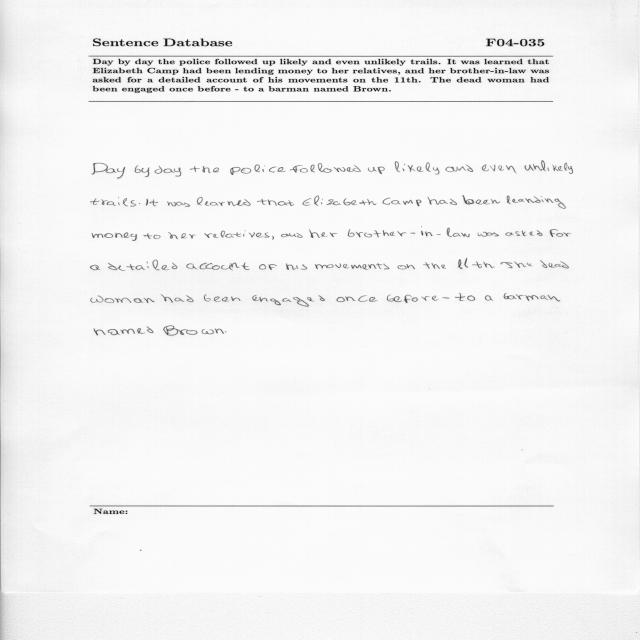word: (347, 227, 470, 237), (252, 295, 325, 307), (109, 259, 178, 271), (506, 196, 566, 209), (303, 196, 377, 206), (290, 163, 361, 173), (525, 161, 573, 174), (395, 161, 439, 175), (163, 326, 224, 336), (230, 165, 286, 175), (94, 327, 154, 336), (204, 230, 270, 238), (315, 263, 389, 270), (186, 263, 250, 271), (91, 295, 154, 303), (504, 293, 560, 302), (92, 163, 125, 178), (197, 197, 251, 206), (387, 295, 439, 303), (91, 197, 136, 206), (92, 232, 137, 241), (458, 258, 494, 269), (383, 198, 422, 207), (463, 196, 501, 205), (482, 165, 516, 174), (155, 166, 182, 177), (161, 294, 194, 303), (204, 294, 241, 302), (257, 199, 295, 206), (540, 260, 569, 269), (309, 229, 337, 238), (336, 296, 378, 302), (427, 197, 457, 205), (506, 230, 543, 236), (190, 166, 219, 173), (446, 165, 474, 172), (168, 232, 196, 239), (135, 165, 149, 177), (550, 229, 571, 237), (423, 262, 446, 269), (455, 293, 475, 301), (286, 263, 307, 270), (514, 261, 533, 268), (368, 167, 385, 174), (167, 202, 190, 207), (259, 264, 277, 270), (281, 233, 302, 238), (478, 232, 499, 237), (144, 233, 161, 239), (398, 264, 415, 269), (146, 199, 158, 206), (501, 262, 513, 268), (91, 265, 101, 270), (485, 295, 493, 301), (272, 236, 274, 240), (443, 298, 450, 299), (225, 331, 227, 332), (139, 203, 140, 204)
